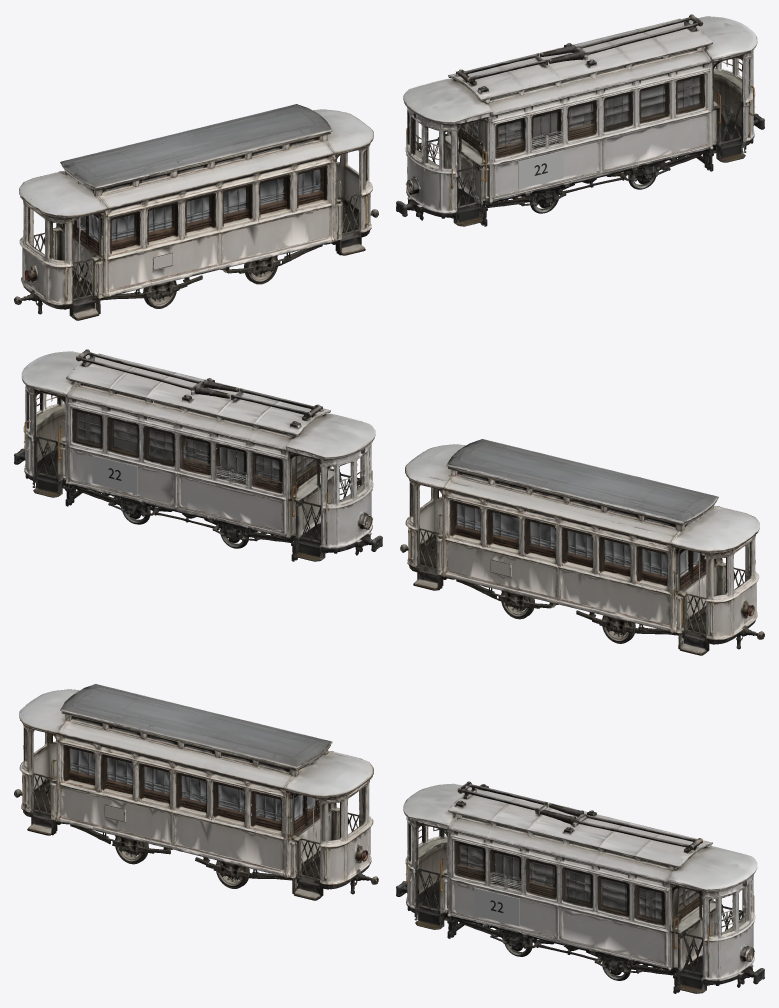
The model's file is ragheno_motor.glb.
3 renders of one model, top to bottom at view 1: azimuth 30°, elevation 25°; view 2: azimuth 150°, elevation 25°; view 3: azimuth 330°, elevation 25°, orthographic.
Parts seen in each view (by area): view 1: Ragheno_tirkama_AI_tripo, Ragheno_1912_AI_Tripo, raqam_fon_1; view 2: Ragheno_tirkama_AI_tripo, Ragheno_1912_AI_Tripo, raqam_fon_1; view 3: Ragheno_tirkama_AI_tripo, Ragheno_1912_AI_Tripo, raqam_fon_1.
Boxes of the visible parts, <box> form: Ragheno_tirkama_AI_tripo: <box>14,104,378,320</box>; Ragheno_1912_AI_Tripo: <box>396,14,764,226</box>; raqam_fon_1: <box>518,102,598,188</box>; Ragheno_tirkama_AI_tripo: <box>400,439,764,655</box>; Ragheno_1912_AI_Tripo: <box>14,349,382,561</box>; raqam_fon_1: <box>92,455,137,494</box>; Ragheno_tirkama_AI_tripo: <box>14,684,378,900</box>; Ragheno_1912_AI_Tripo: <box>396,781,764,993</box>; raqam_fon_1: <box>474,887,652,926</box>.
Size of the model in its own units: 17.1 by 3.2 by 2.
6 materials, 4 textured.
